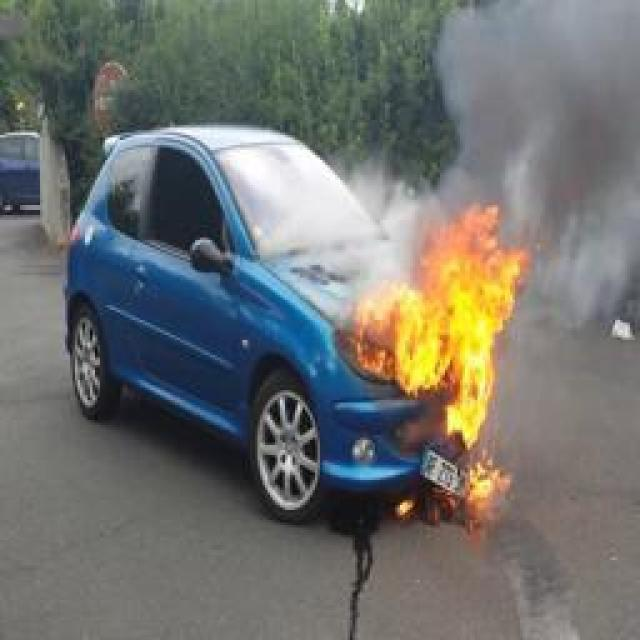Fire: (356, 201, 529, 451)
